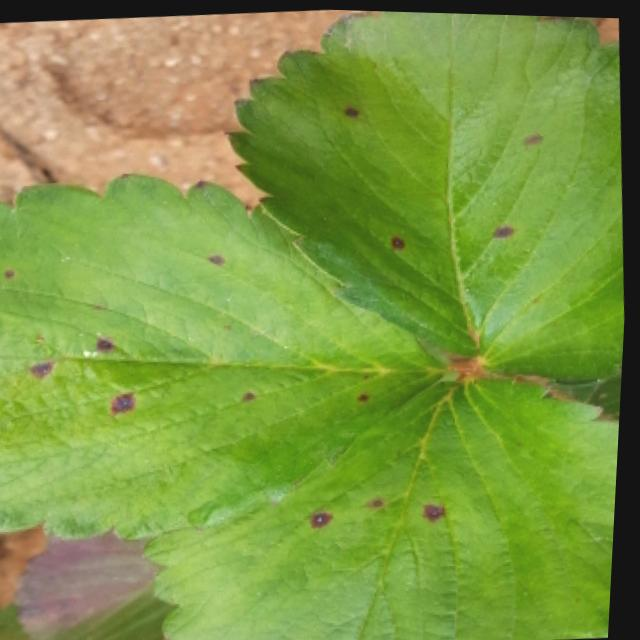Leaf Spot: (0, 172, 456, 538), (224, 8, 627, 382), (145, 370, 624, 640)
